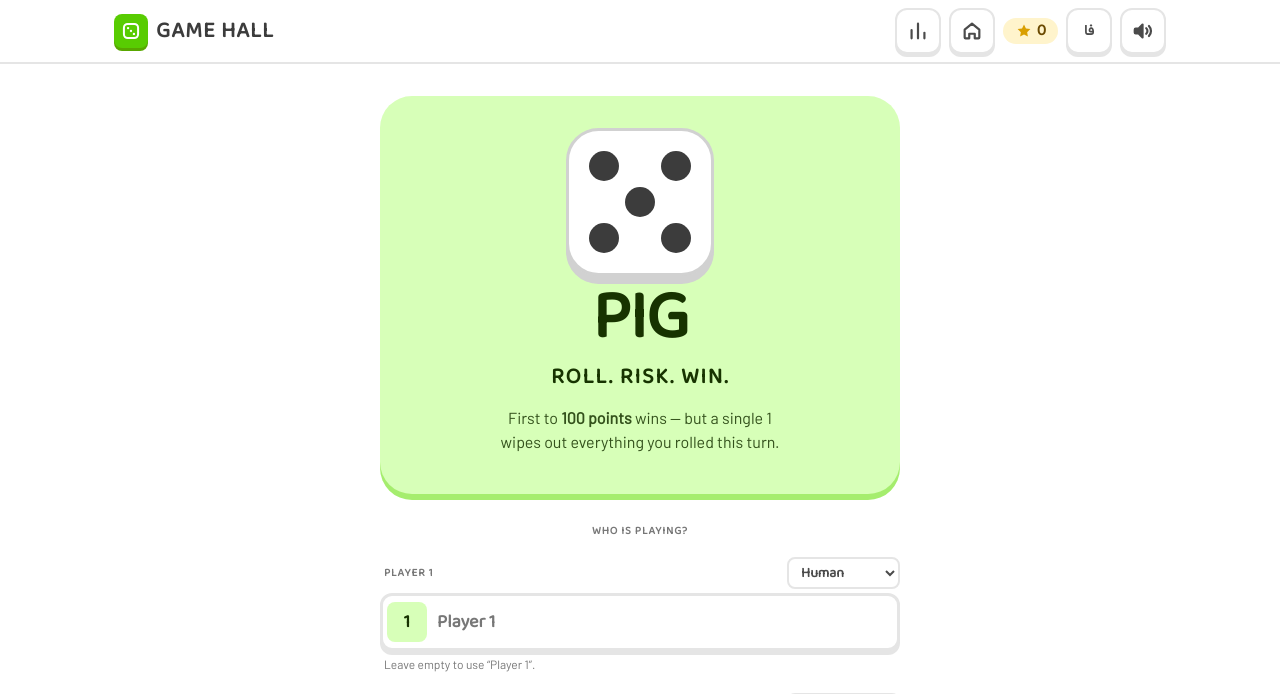
language switch › switches back to English
The width and height of the screenshot is (1280, 694).
Click the button with aria-label "Switch to Persian" at {"x": 1089, "y": 31}, box [1066, 8, 1112, 54]
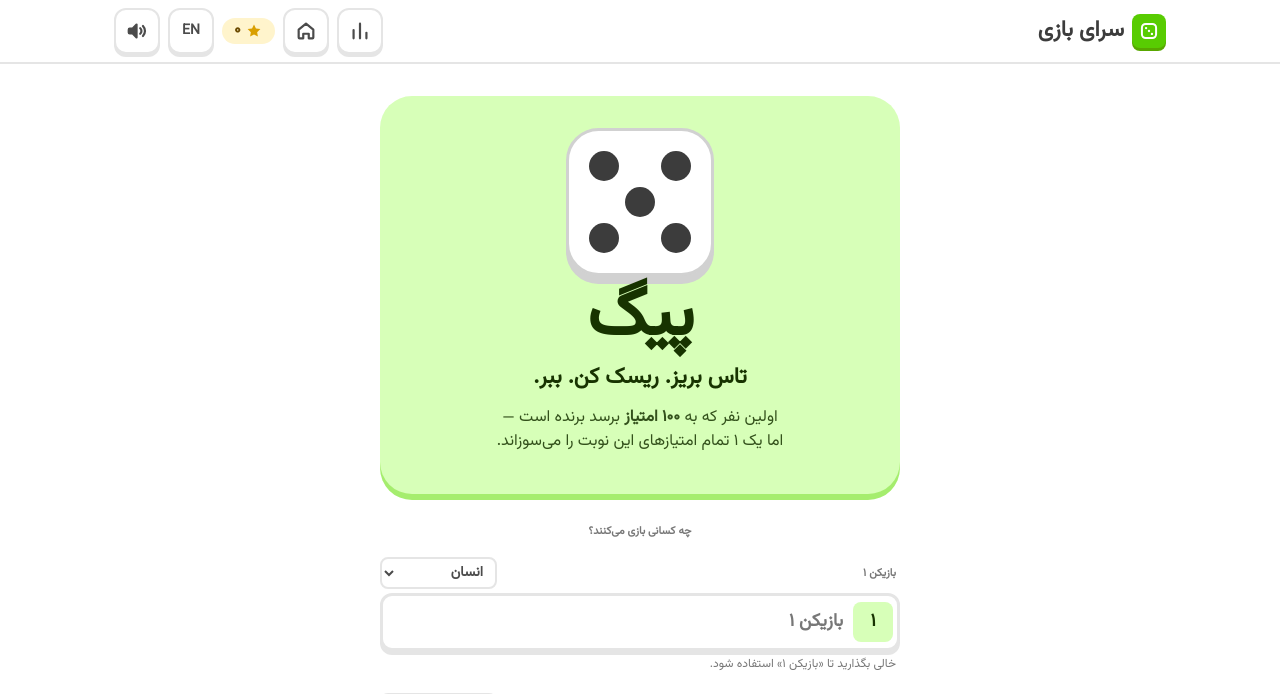
Click the button with aria-label "تغییر به انگلیسی" at {"x": 191, "y": 31}, box [168, 8, 214, 54]
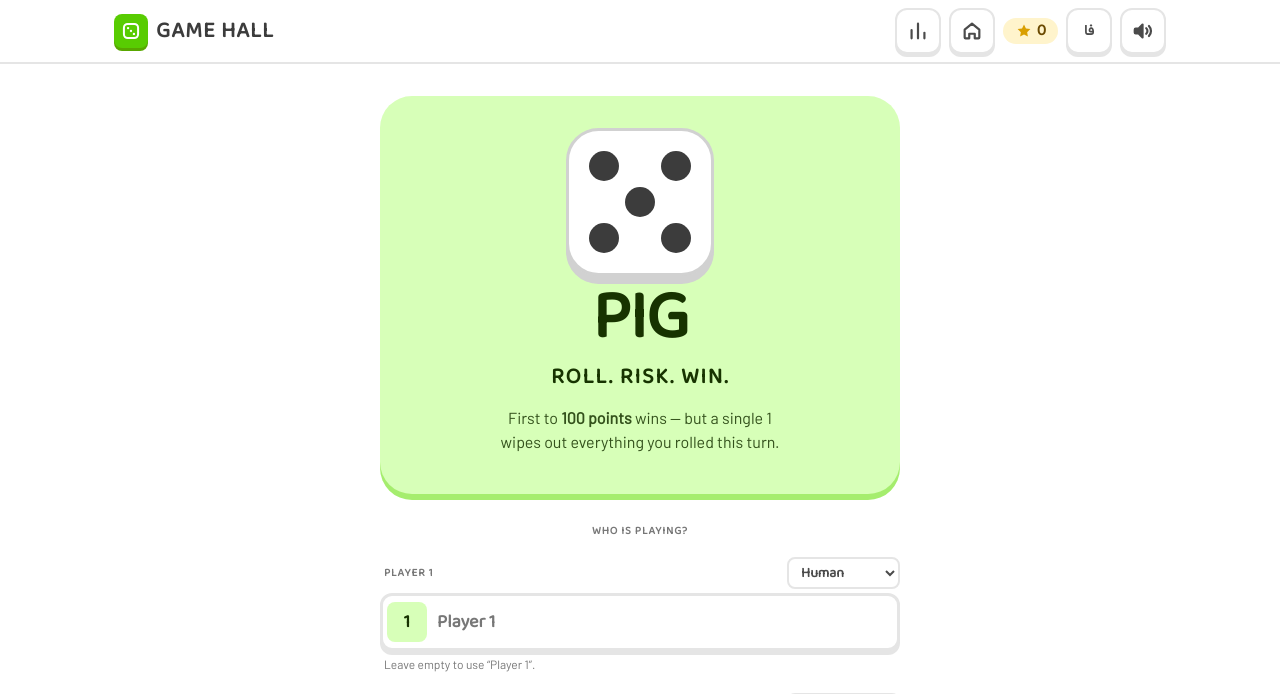
Result: the text "Roll. Risk. Win." is shown at [551, 361, 729, 394]
